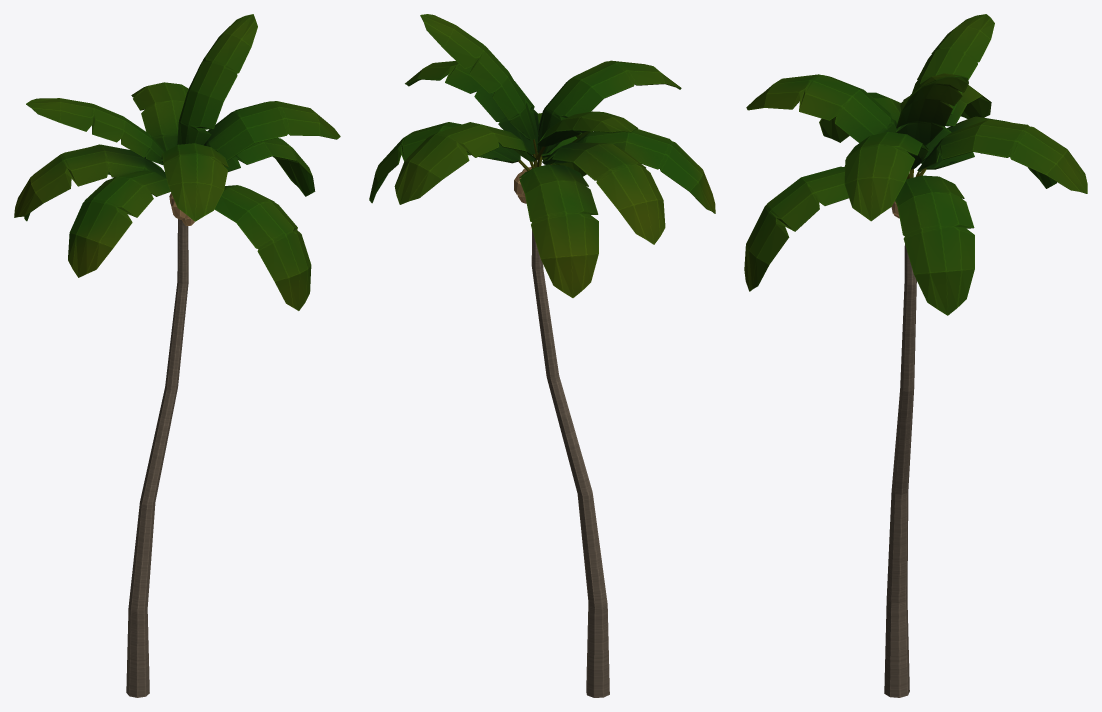
Rendered from gp_CoconutPalmTree.glb.
3 views of the same model, side by side, from view 1: azimuth 30°, elevation 25°; view 2: azimuth 150°, elevation 25°; view 3: azimuth 270°, elevation 25° (orthographic). The views are drawn at different scales.
Parts seen in each view (by area): view 1: node-0; view 2: node-0; view 3: node-0.
Boxes of the visible parts, x1=… form: node-0: x1=14, y1=14, x2=340, y2=697; node-0: x1=369, y1=14, x2=715, y2=697; node-0: x1=744, y1=14, x2=1087, y2=697.
Size of the model in its own units: 12.75 by 27.08 by 12.16.
Materials: 1 (1 with a texture image).
